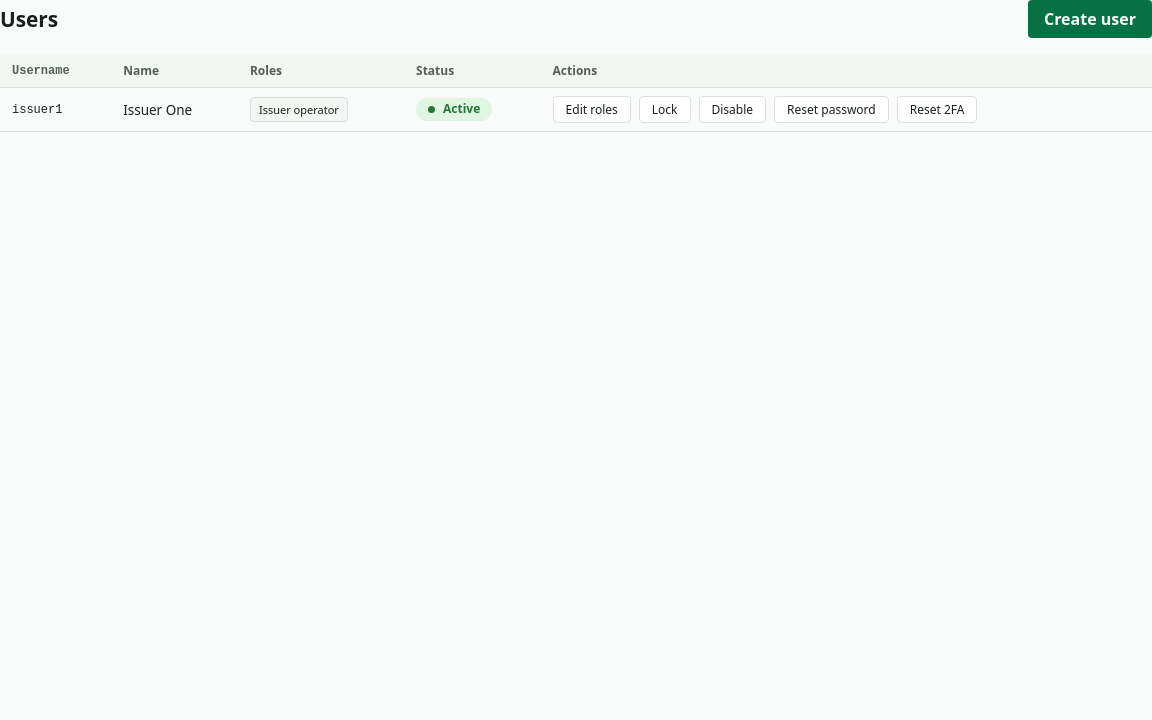
Scenario: UsersPage reset password › resets the password and shows the one-time temporary password
Step 1. Click the button "Reset password" → (831, 110), box [774, 96, 889, 123]
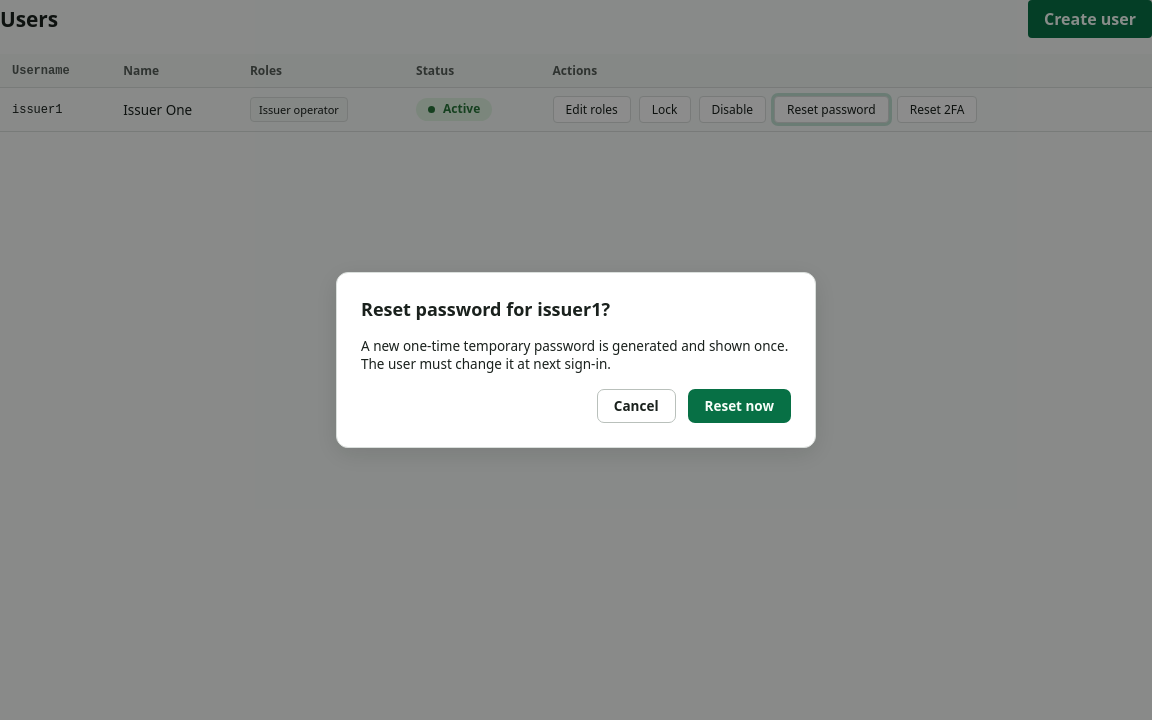
Step 2. Click the button "Reset now" → (739, 406), box [688, 389, 791, 423]
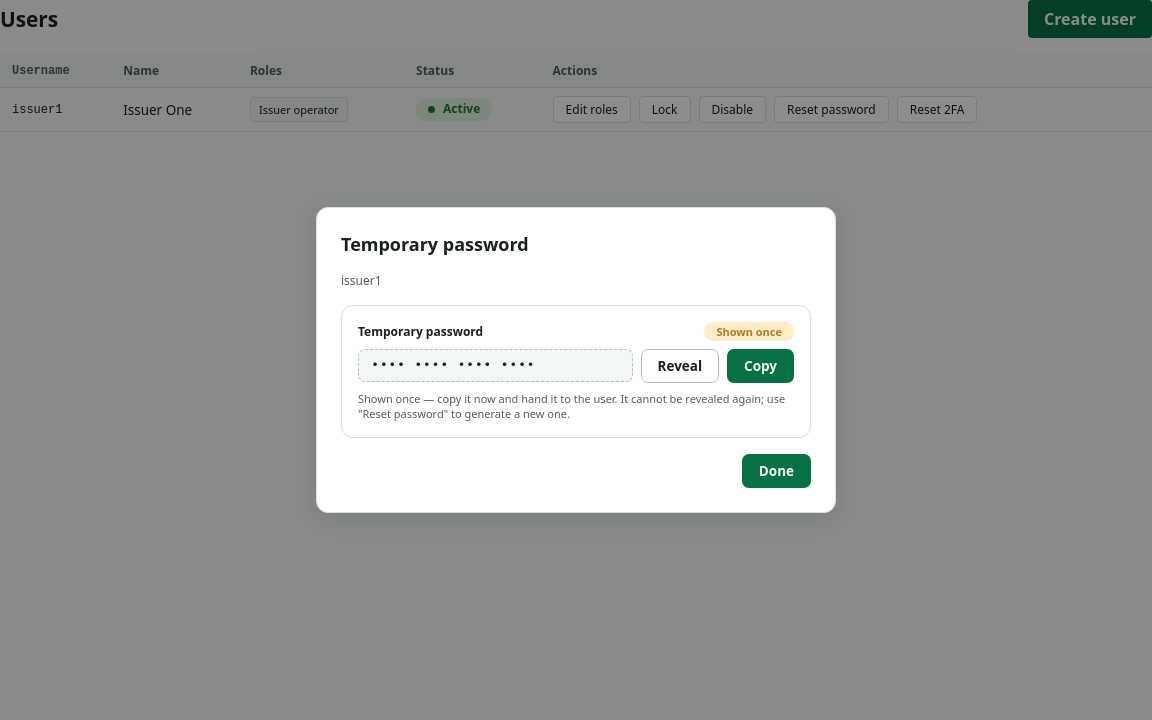
Step 3. Click the button "Reveal" → (680, 366), box [640, 349, 719, 383]
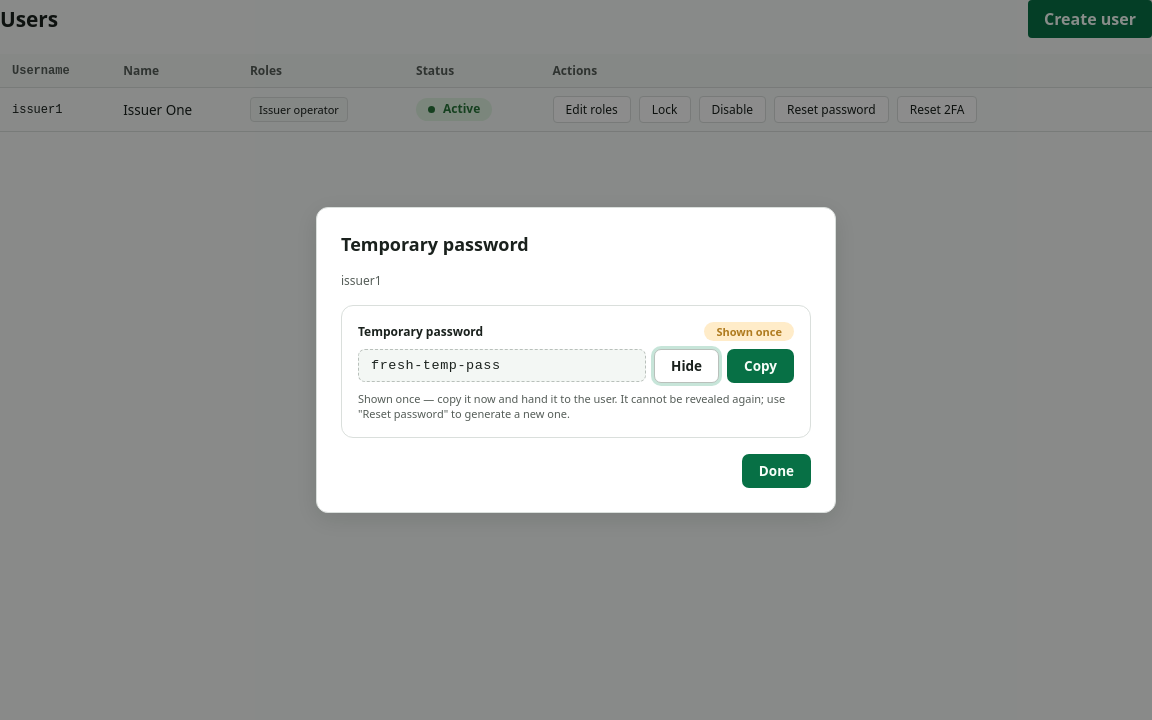
expect the text "fresh-temp-pass" is shown: met, box [358, 349, 646, 382]
